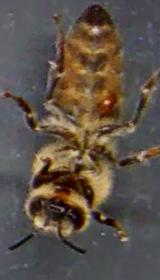varroa_mite: (96, 88, 118, 114)
